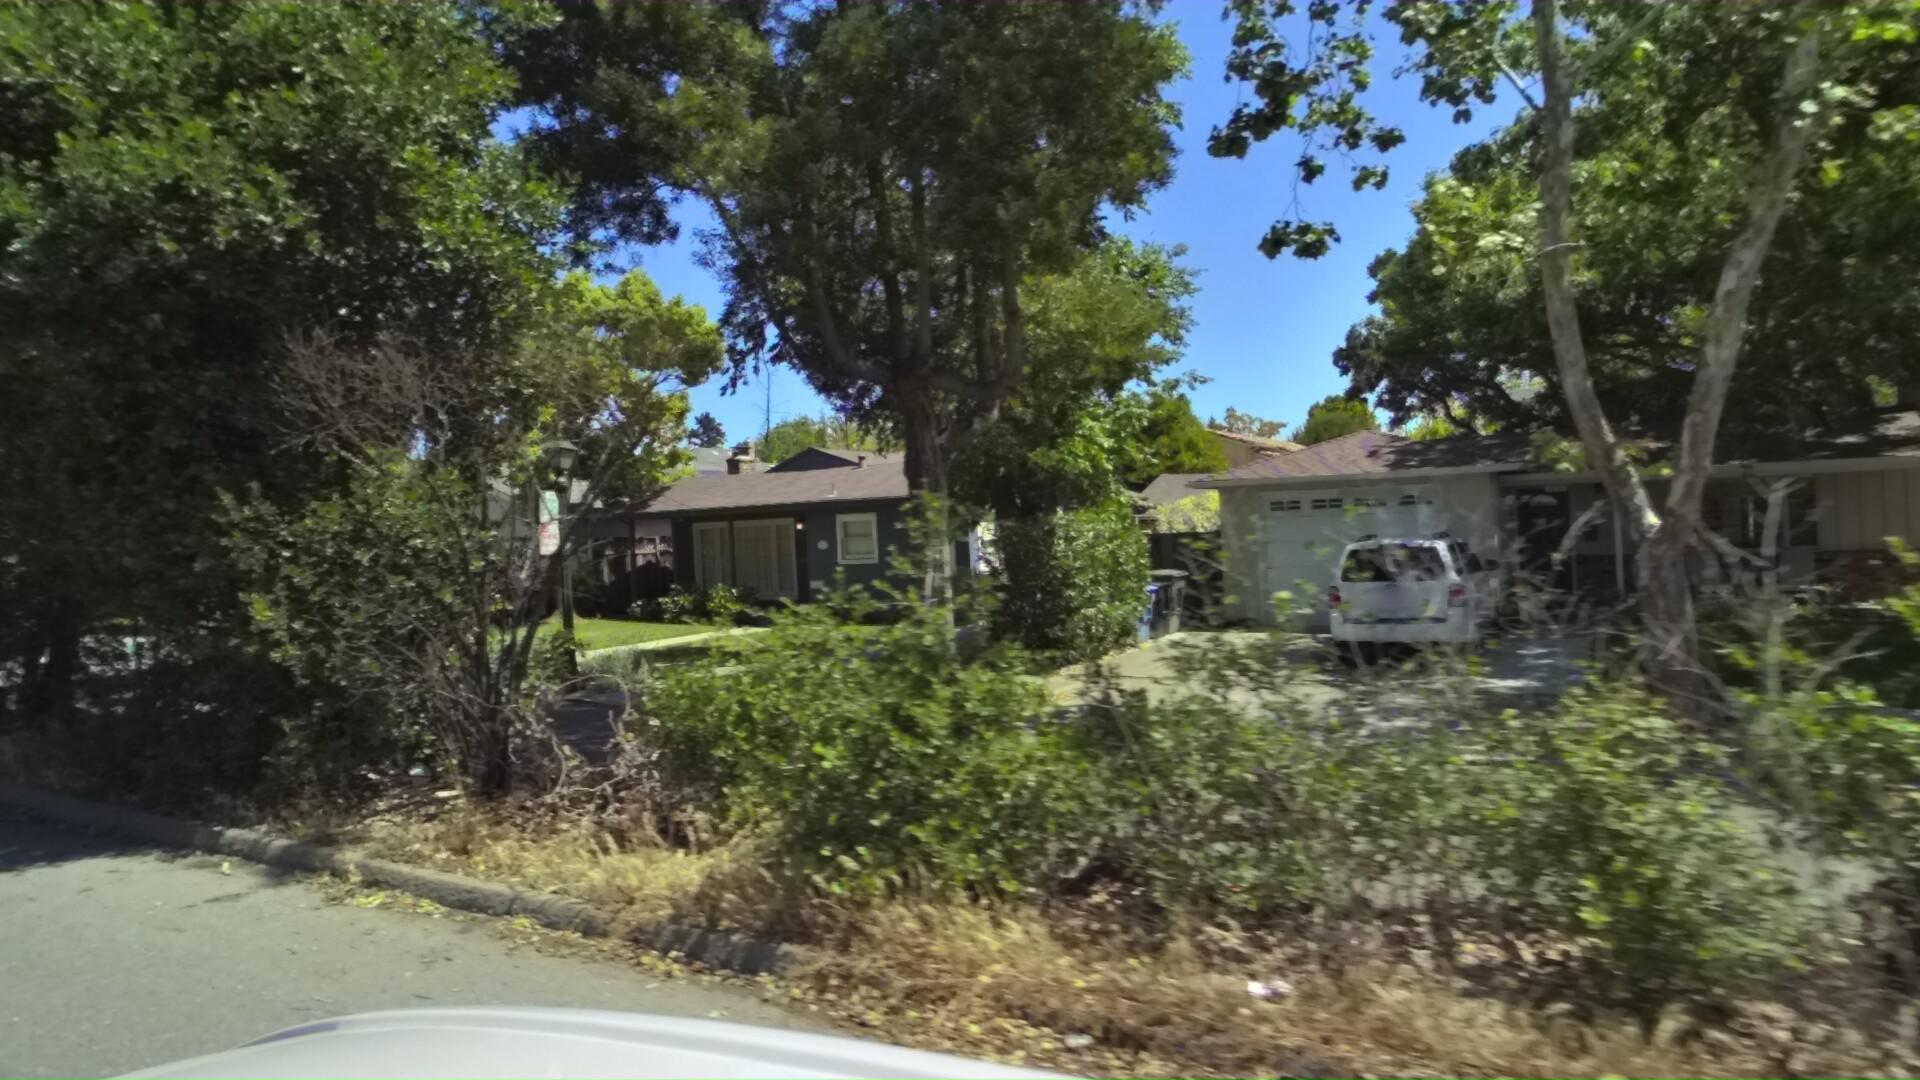car: (1353, 514, 1535, 675)
